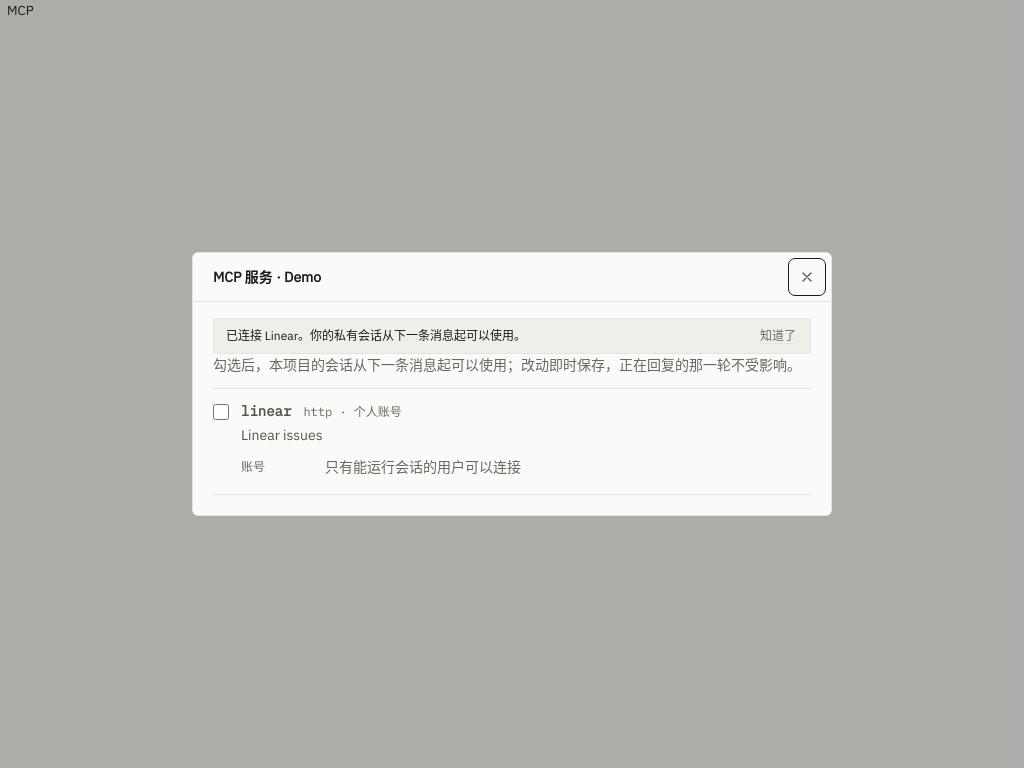
Test: useProjectMcp › opens with the result after returning from the authorization page, back on the original page
The image size is (1024, 768).
Expected: the message with test id "project-mcp-returned" shows "已连接 Linear", left=226, top=328, right=526, bottom=343
Click the button "知道了": (778,336) left=758, top=327, right=798, bottom=345
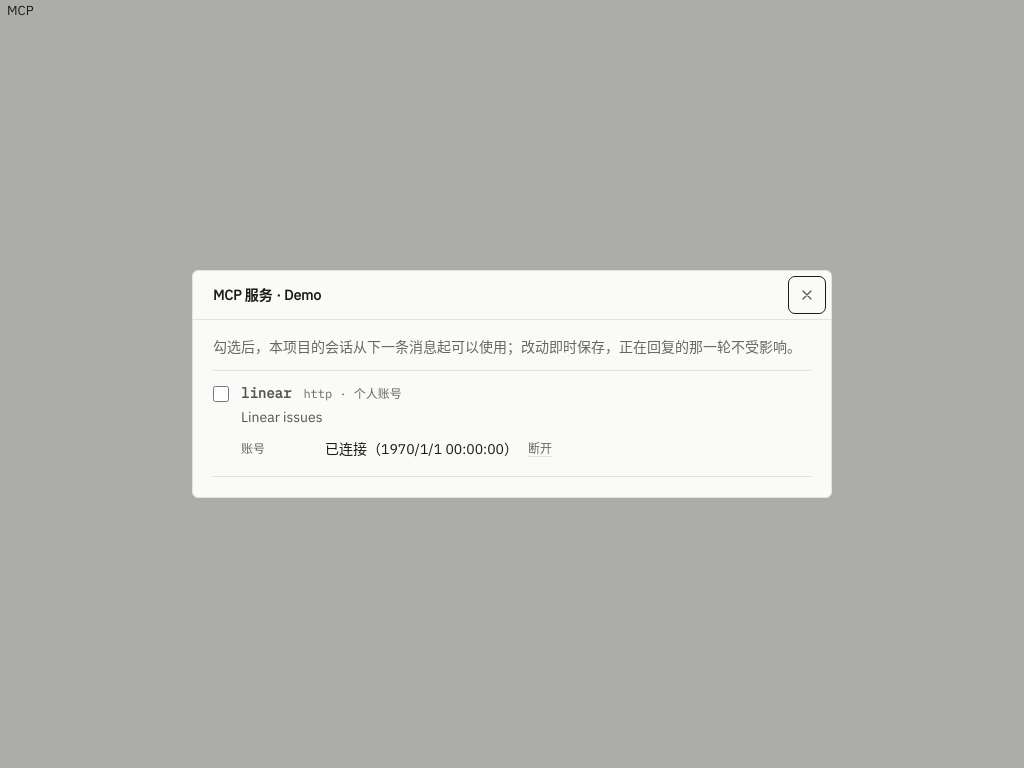
Result: the message with test id "project-mcp-returned" is gone
